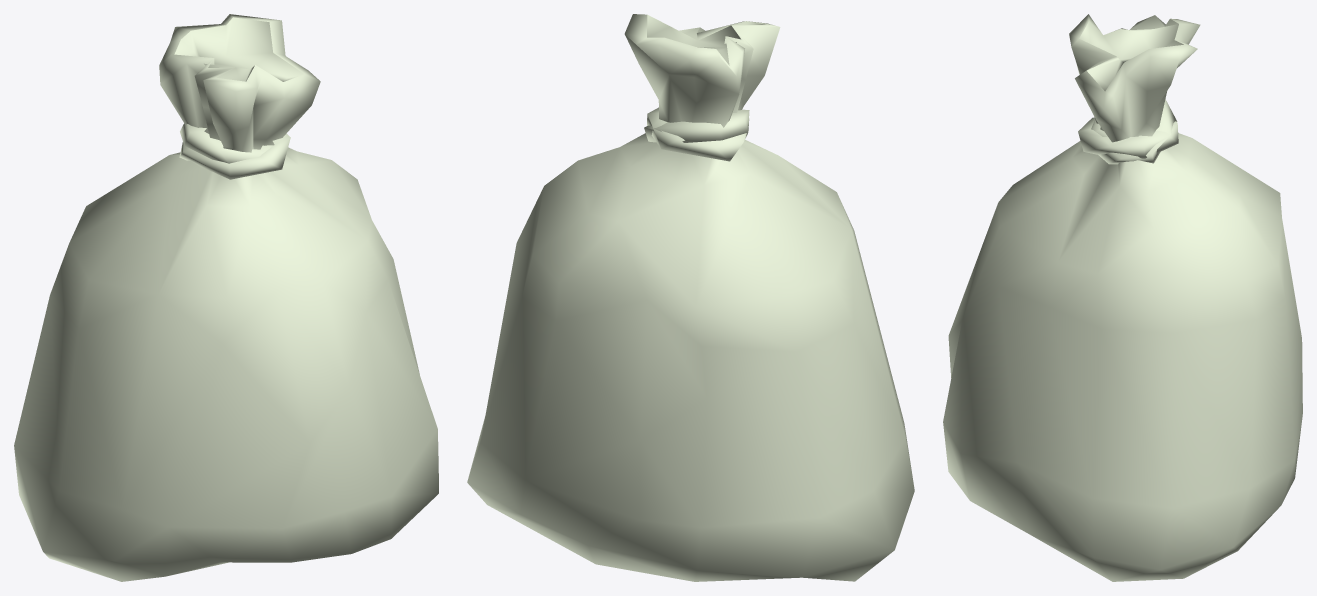
Rendered from bag2.glb.
The picture shows the model from 3 angles, left to right: view 1: azimuth 30°, elevation 25°; view 2: azimuth 150°, elevation 25°; view 3: azimuth 270°, elevation 25°; orthographic projection. The views are drawn at different scales.
Visible parts, largest first — view 1: k_sack_kit; view 2: k_sack_kit; view 3: k_sack_kit.
Part boxes in pixels (x1,y1,x2,y2): k_sack_kit: (14, 14, 438, 581); k_sack_kit: (467, 14, 914, 581); k_sack_kit: (943, 14, 1302, 581).
Bounding box in the file's own units: 0.3771 × 0.46 × 0.3134.
